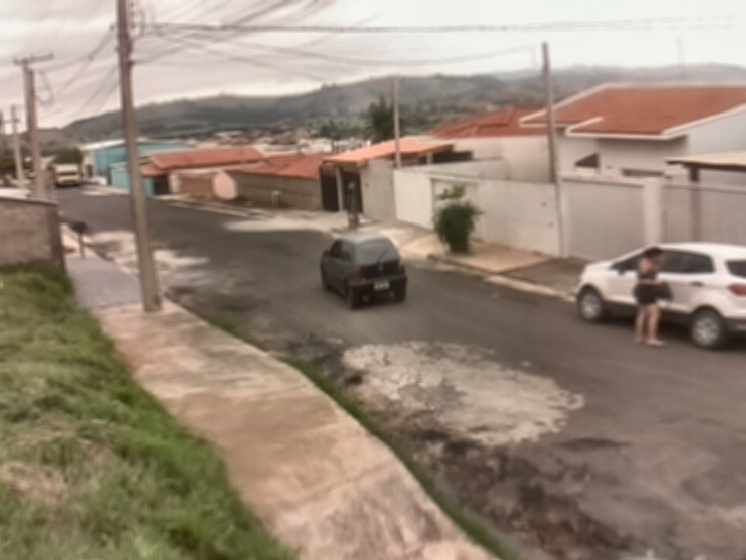person: (632, 247, 672, 349)
